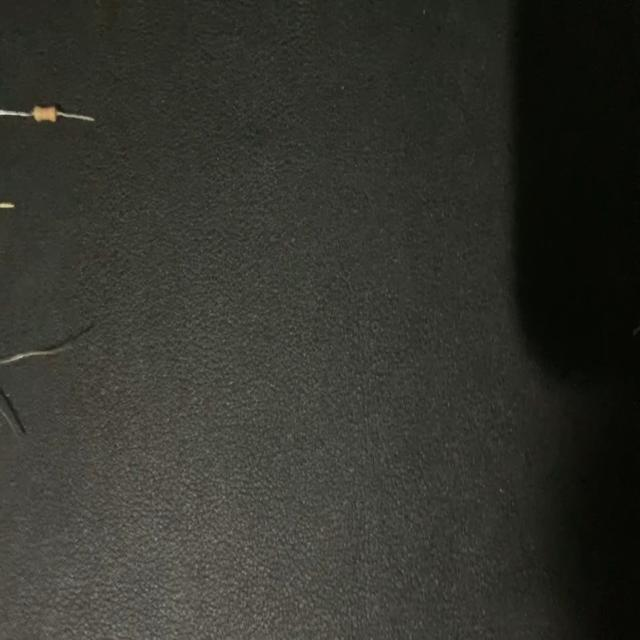resistor: (0, 76, 104, 147)
